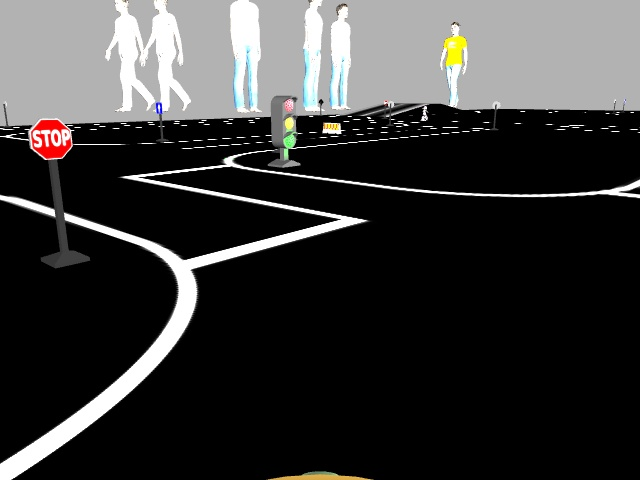ClosedRoadStand: (321, 121, 341, 133)
OneWay: (154, 103, 162, 113)
Stop: (27, 119, 73, 159)
TrafficLight: (268, 97, 295, 148)
